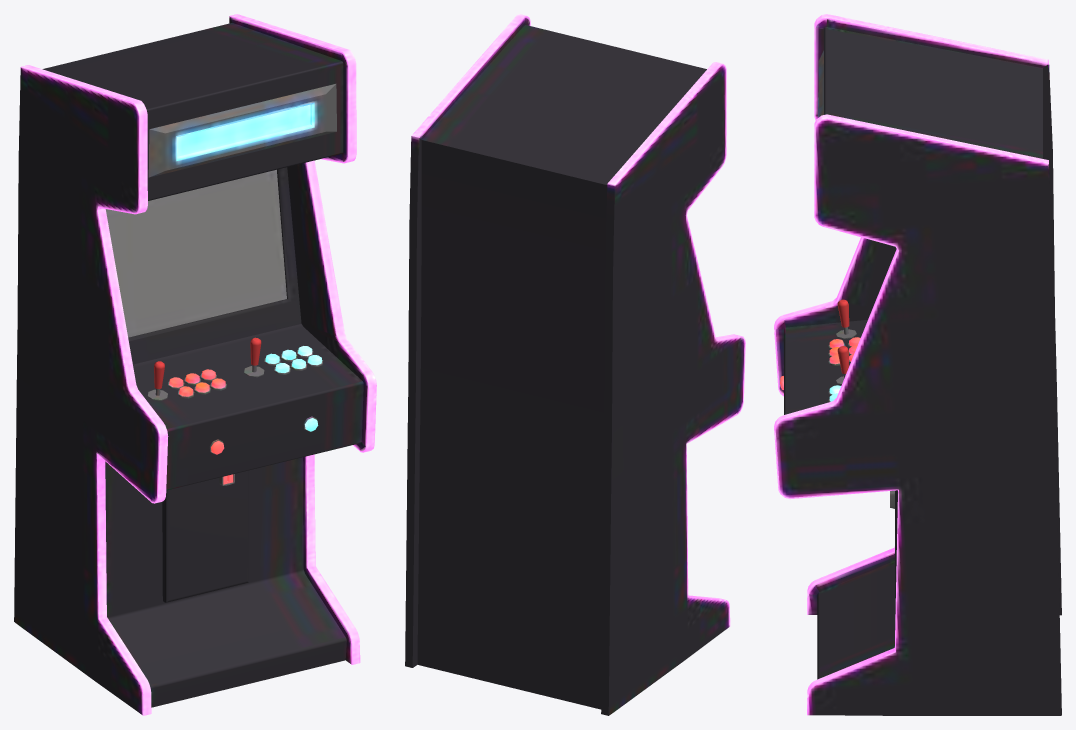
The model's file is neon_negra.glb.
The picture shows the model from 3 angles, left to right: view 1: azimuth 30°, elevation 25°; view 2: azimuth 150°, elevation 25°; view 3: azimuth 270°, elevation 25°; orthographic projection. The views are drawn at different scales.
Visible parts, largest first — view 1: maquina; view 2: maquina; view 3: maquina.
Boxes of the visible parts, bbox=[...] form: maquina: bbox=[14, 14, 376, 715]; maquina: bbox=[405, 14, 745, 715]; maquina: bbox=[774, 14, 1061, 715].
Bounding box in the file's own units: 0.7107 × 1.9 × 0.8292.
1 material, 1 textured.
